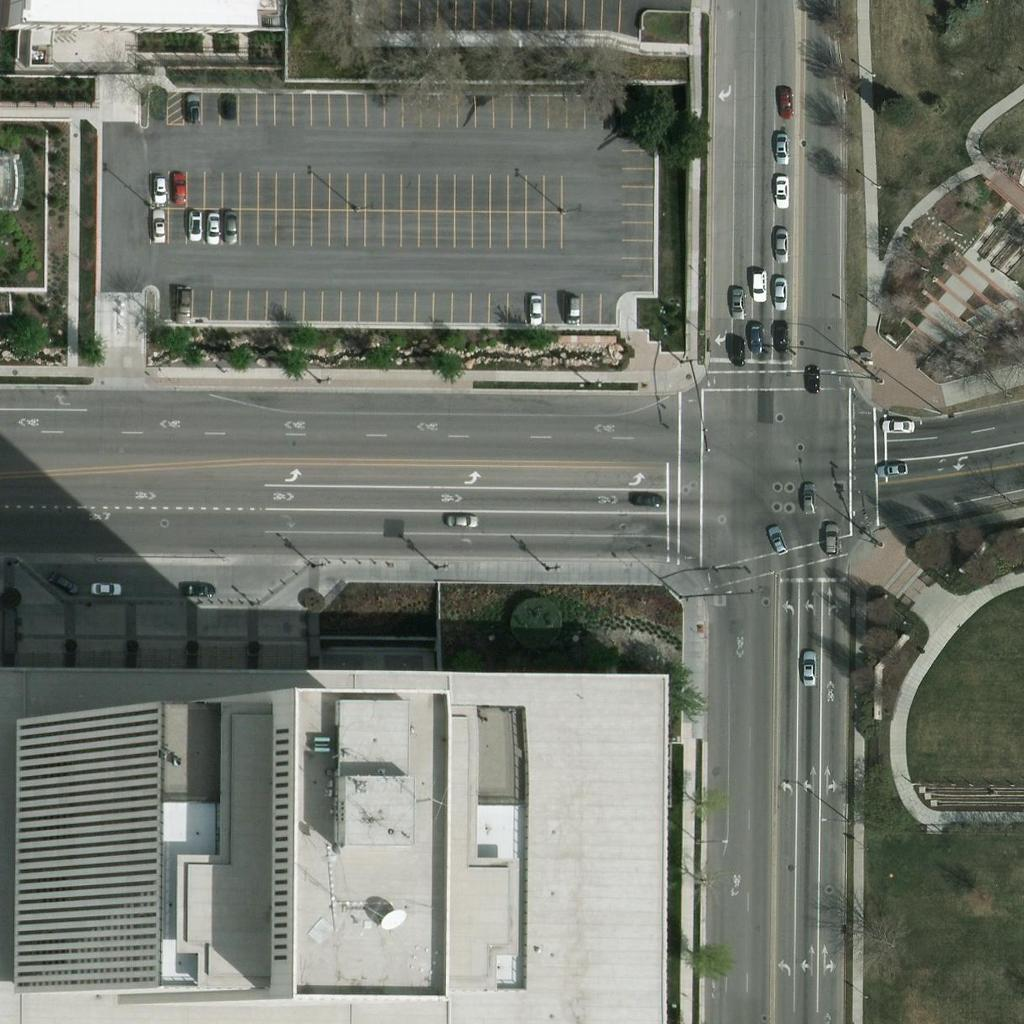car: (767, 82, 801, 116), (212, 89, 246, 123), (176, 92, 210, 126), (762, 130, 796, 164), (143, 170, 177, 204), (762, 171, 796, 205), (163, 174, 197, 208), (141, 208, 175, 242), (176, 209, 210, 243), (214, 209, 248, 243), (197, 211, 231, 245), (762, 226, 796, 260), (741, 267, 775, 301), (761, 273, 795, 307), (719, 285, 753, 319), (166, 290, 200, 324), (519, 290, 553, 324), (557, 294, 591, 328), (737, 318, 771, 352), (761, 319, 795, 353), (719, 331, 753, 365), (794, 364, 828, 398), (795, 364, 829, 398), (880, 408, 914, 442), (875, 451, 909, 485), (627, 480, 661, 514), (790, 480, 824, 514), (441, 502, 475, 536), (813, 521, 847, 555), (759, 526, 793, 560), (46, 565, 80, 599), (89, 570, 123, 604), (183, 571, 217, 605), (790, 651, 824, 685)
